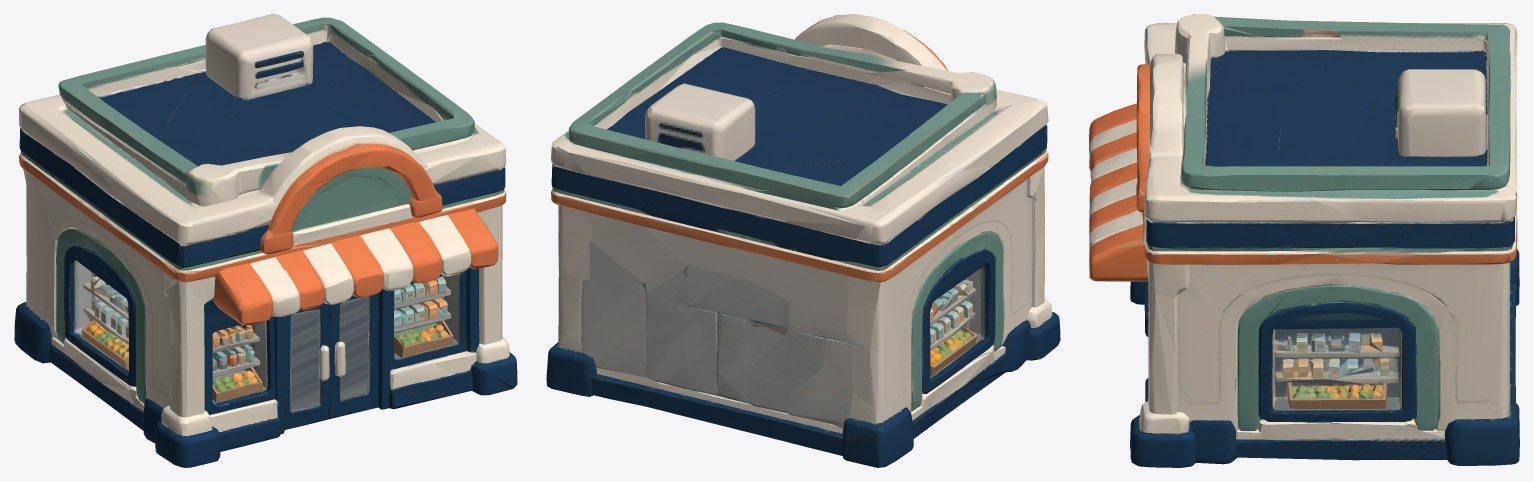
File: furnitureShowroom.glb
The picture shows the model from 3 angles, left to right: view 1: azimuth 30°, elevation 25°; view 2: azimuth 150°, elevation 25°; view 3: azimuth 270°, elevation 25°; orthographic projection. The views are drawn at different scales.
Visible parts, largest first — view 1: Mesh_0; view 2: Mesh_0; view 3: Mesh_0.
Part boxes in pixels (x1,y1,x2,y2): Mesh_0: [14, 14, 517, 467]; Mesh_0: [546, 14, 1060, 467]; Mesh_0: [1089, 14, 1519, 467].
Bounding box in the file's own units: 2.87 × 2.26 × 2.8.
1 material, 1 textured.
